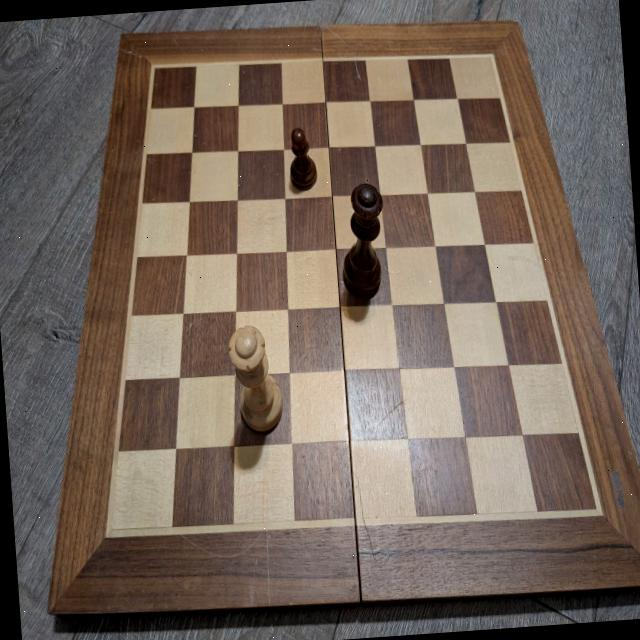black_pawn: (286, 126, 318, 192)
black_queen: (336, 182, 389, 300)
white_queen: (226, 322, 285, 434)
